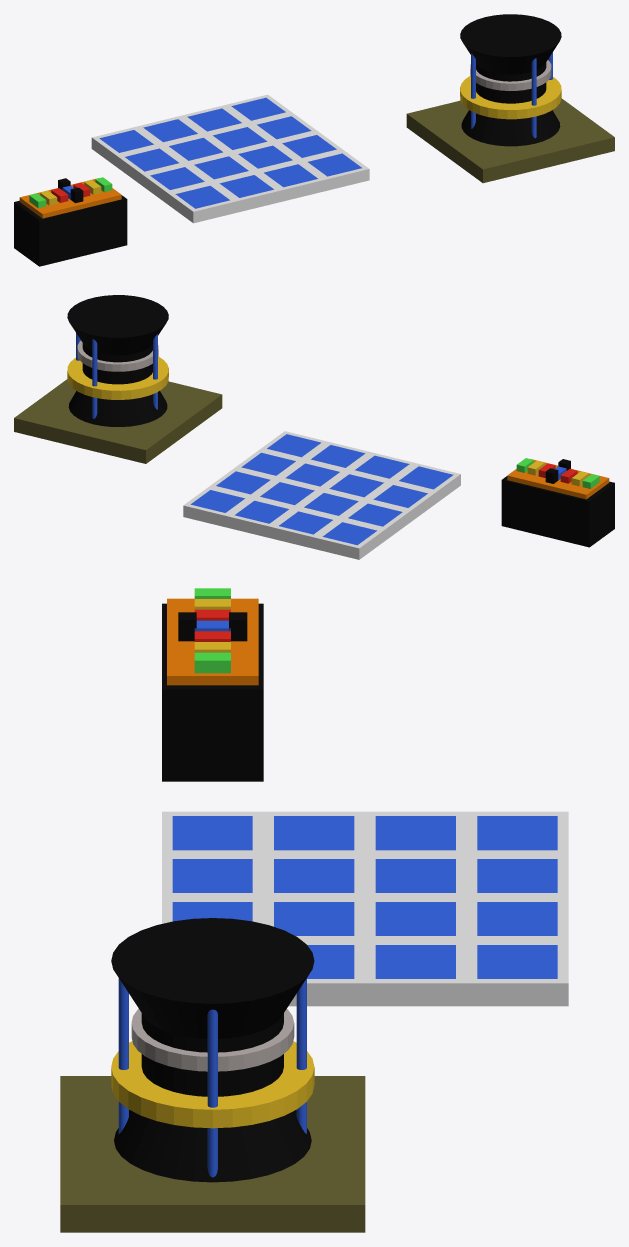
File: electrotibutes.fbx
3 renders of one model, top to bottom at view 1: azimuth 30°, elevation 25°; view 2: azimuth 150°, elevation 25°; view 3: azimuth 270°, elevation 25°, orthographic. The views are drawn at different scales.
Visible parts, largest first — view 1: Cube.001, Cylinder, Cube.005; view 2: Cube.001, Cylinder, Cube.005; view 3: Cylinder, Cube.001, Cube.005.
Part boxes in pixels (bbox=[...]): Cube.001: bbox=[91, 94, 369, 223]; Cylinder: bbox=[406, 14, 614, 183]; Cube.005: bbox=[14, 177, 127, 266]; Cube.001: bbox=[183, 431, 460, 559]; Cylinder: bbox=[14, 295, 222, 463]; Cube.005: bbox=[501, 458, 614, 547]; Cylinder: bbox=[60, 918, 365, 1232]; Cube.001: bbox=[162, 811, 568, 1006]; Cube.005: bbox=[162, 588, 263, 781].
Size of the model in its own units: 2500 by 450 by 1000.
